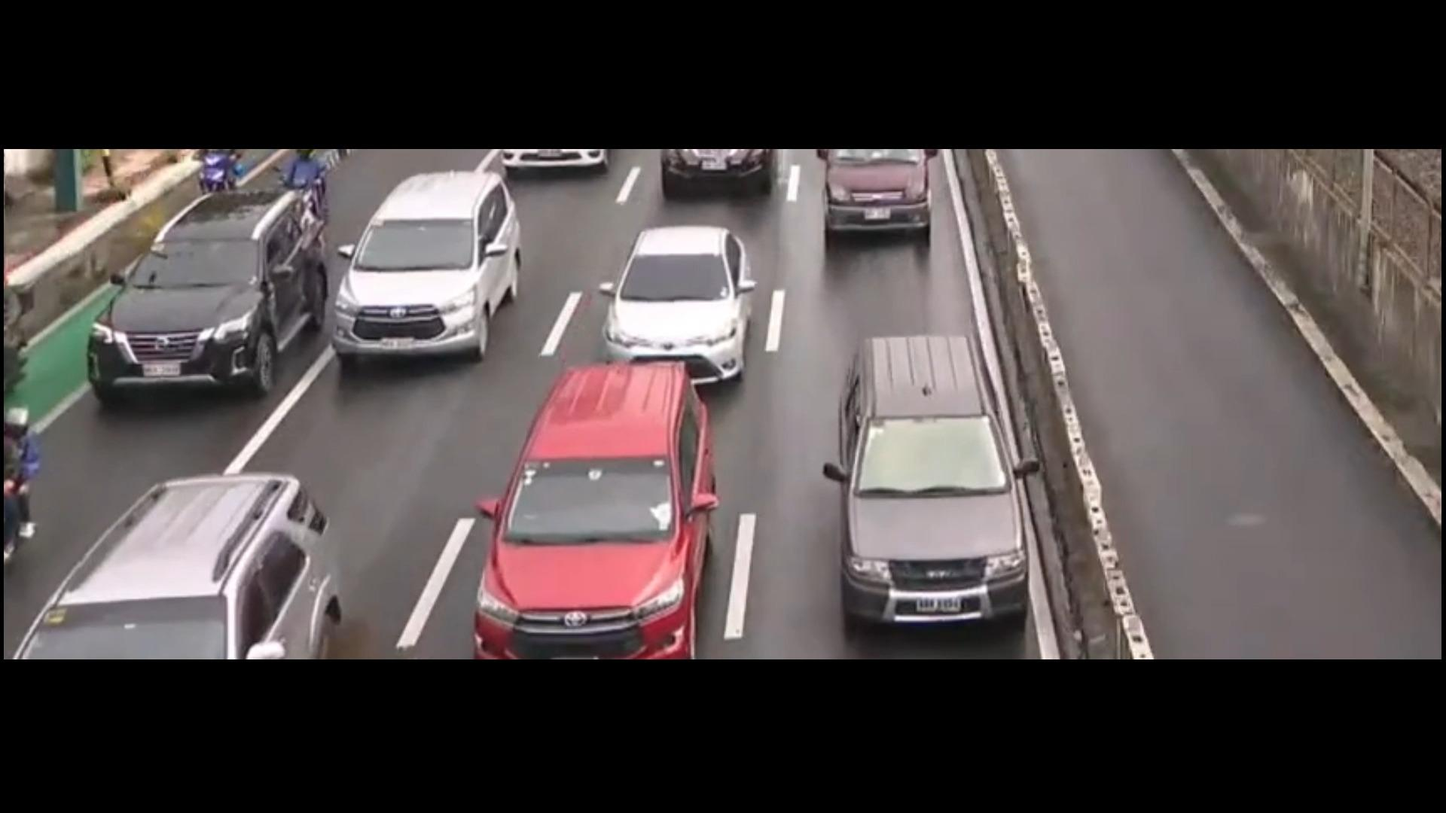Motorcycle: (280, 143, 337, 205), (197, 145, 243, 197)
SUV: (462, 365, 733, 663), (816, 313, 1042, 643), (12, 465, 351, 663), (79, 189, 339, 429), (310, 151, 541, 360)
Sedan: (570, 222, 769, 384)
